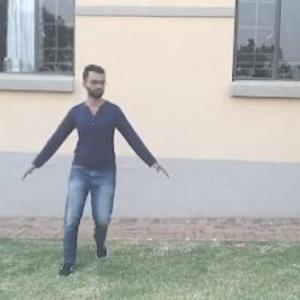land: (20, 65, 158, 247)
